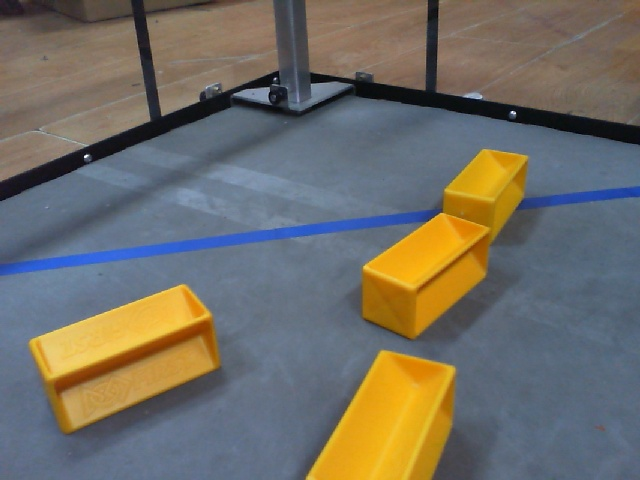YellowSample: (25, 279, 226, 435), (304, 345, 459, 480), (358, 210, 494, 340), (438, 145, 530, 244)
